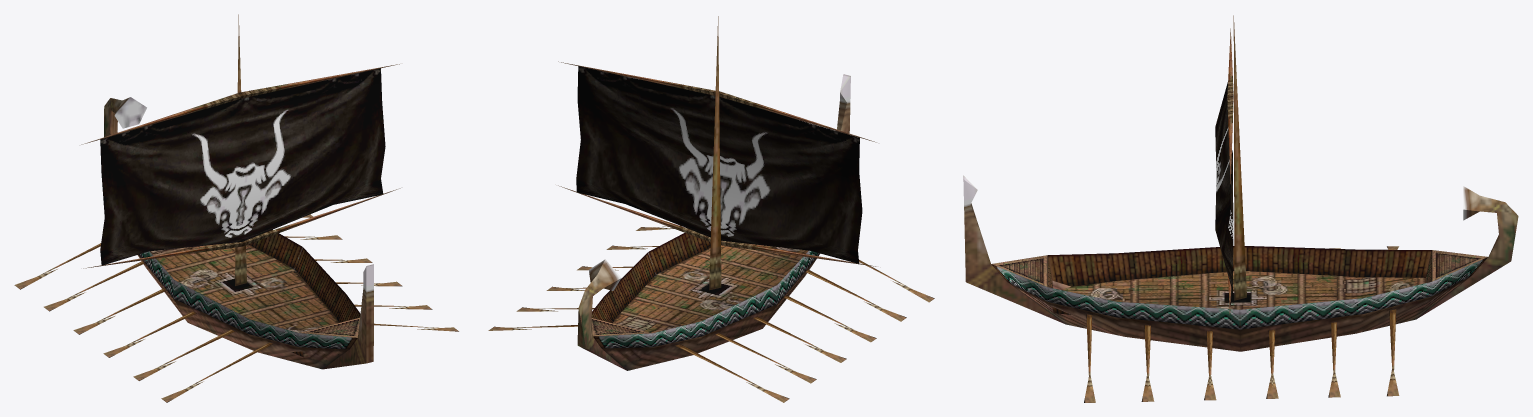
Rendered from pirate_ship_base.glb.
3 renders of one model, left to right at view 1: azimuth 30°, elevation 25°; view 2: azimuth 150°, elevation 25°; view 3: azimuth 270°, elevation 25°, orthographic. The views are drawn at different scales.
Visible parts, largest first — view 1: MeshRoot; view 2: MeshRoot; view 3: MeshRoot.
Part boxes in pixels (<box>): MeshRoot: <box>14,14,458,402</box>; MeshRoot: <box>488,16,934,402</box>; MeshRoot: <box>963,15,1518,402</box>.
Bounding box in the file's own units: 5.09 × 4.73 × 7.2.
Materials: 2 (2 with a texture image).
